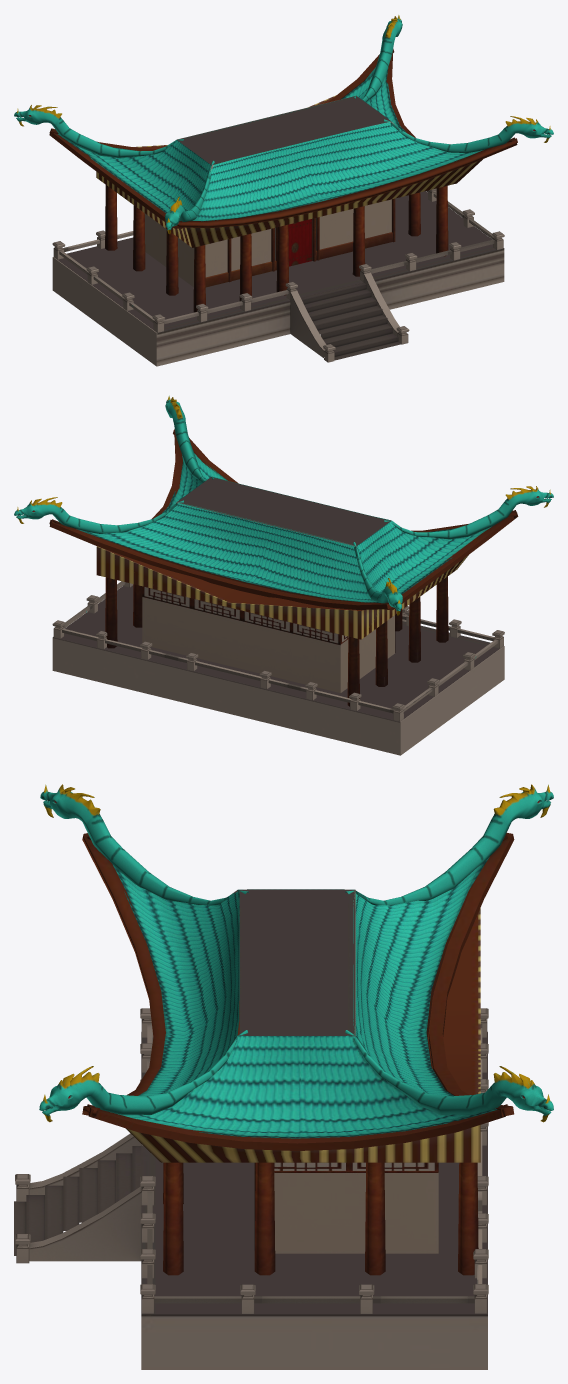
The model's file is House01.fbx.
The picture shows the model from 3 angles, top to bottom: view 1: azimuth 30°, elevation 25°; view 2: azimuth 150°, elevation 25°; view 3: azimuth 270°, elevation 25°; orthographic projection. The views are drawn at different scales.
Parts seen in each view (by area): view 1: polySurface209, polySurface210; view 2: polySurface209; view 3: polySurface209, polySurface210.
Part boxes in pixels (x1,y1,x2,y2): polySurface209: [14, 15, 553, 366]; polySurface210: [290, 272, 409, 362]; polySurface209: [14, 395, 553, 755]; polySurface209: [39, 784, 553, 1369]; polySurface210: [14, 1133, 141, 1263].
Bounding box in the file's own units: 49.19 × 21.86 × 35.71.
